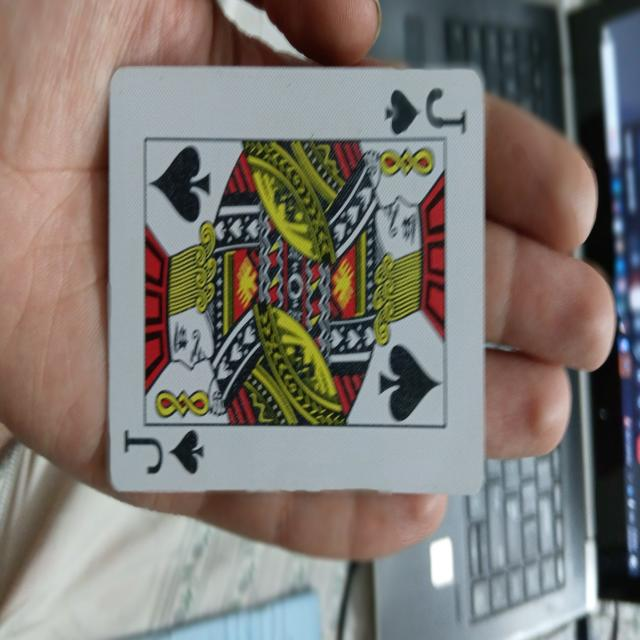JS: (110, 62, 485, 496)
